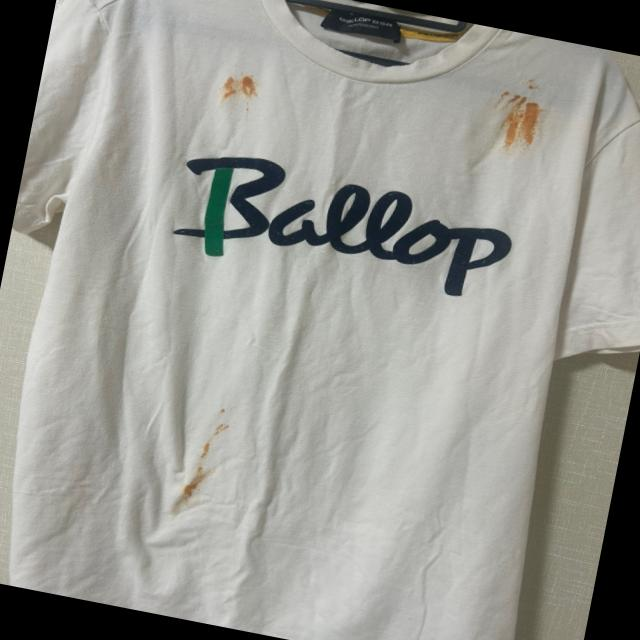stain: (490, 88, 548, 158), (195, 406, 241, 468), (218, 68, 264, 113), (183, 466, 218, 509), (518, 73, 550, 100)
